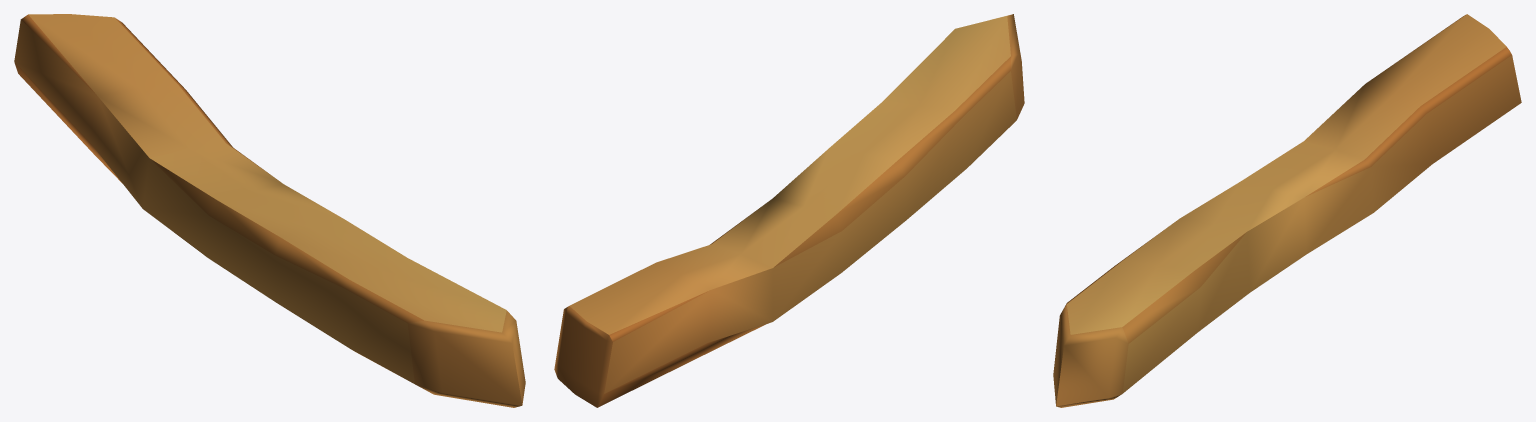
3 views of the same model, side by side, from view 1: azimuth 30°, elevation 25°; view 2: azimuth 150°, elevation 25°; view 3: azimuth 330°, elevation 25° (orthographic). The views are drawn at different scales.
Visible parts, largest first — view 1: alt6; view 2: alt6; view 3: alt6.
Part boxes in pixels (x1,y1,x2,y2): alt6: (14, 14, 525, 407); alt6: (554, 14, 1024, 407); alt6: (1053, 14, 1521, 407).
Bounding box in the file's own units: 0.0623 × 0.0515 × 0.5.
